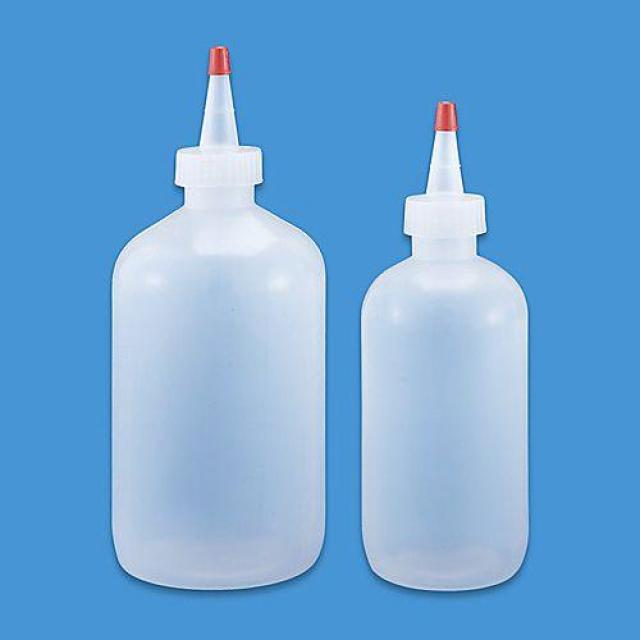plastic_bottle: (91, 29, 344, 604), (348, 86, 542, 602)
